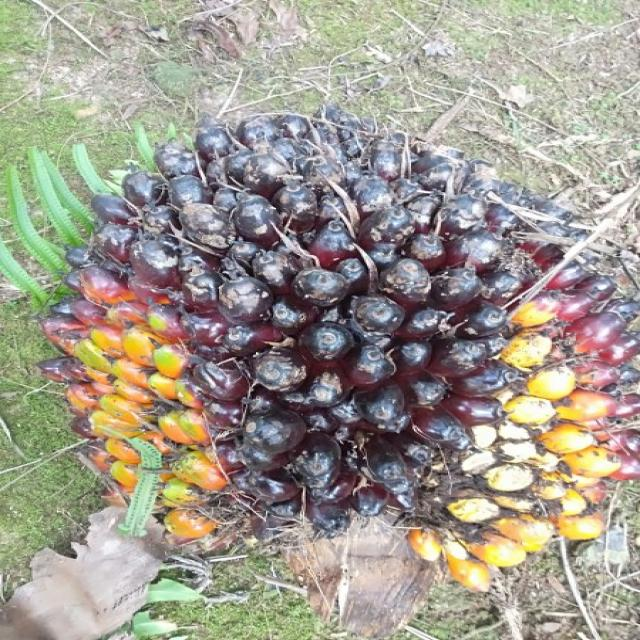fraksi 00: (0, 104, 640, 608)
